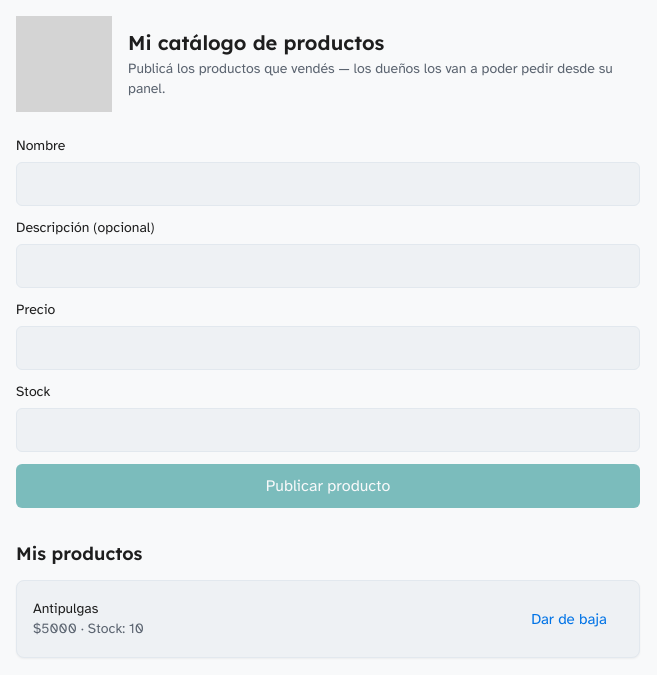
Test: PaginaProductosVeterinario (app/veterinario/productos) › da de baja un producto existente
The width and height of the screenshot is (657, 675).
Expected: the text "Antipulgas" is shown, 33,600 -> 98,617
Click the button "Dar de baja": {"x": 569, "y": 619} 515,597 -> 623,641
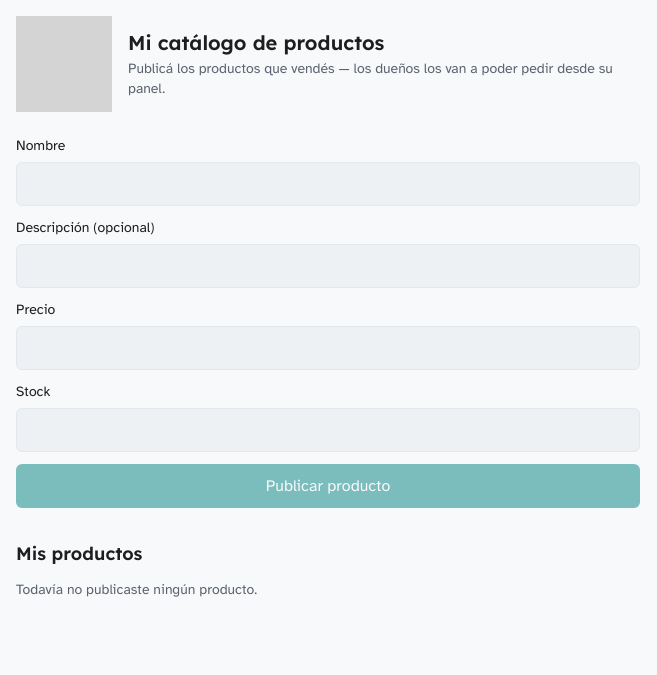
Expected: the text "Todavía no publicaste ningún producto." is shown, 16,581 -> 257,598
